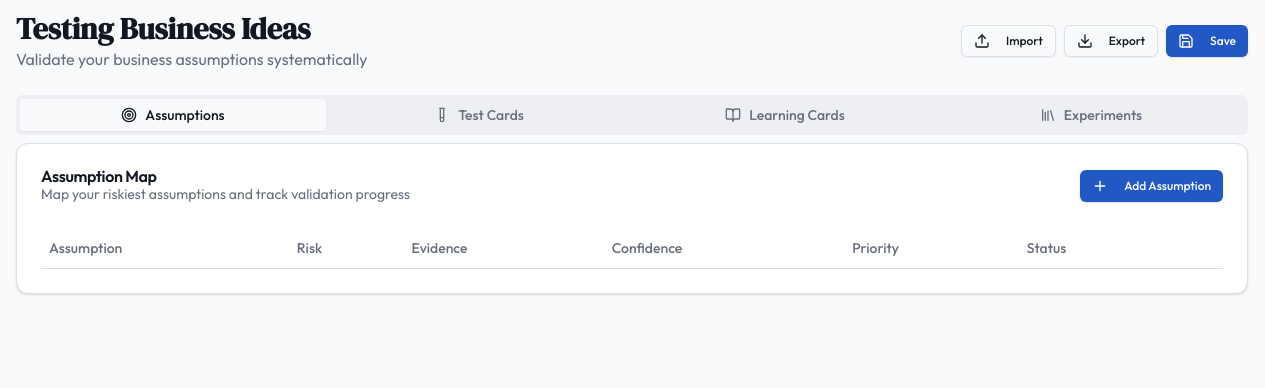
Scenario: TestingBusinessIdeasCanvas › Assumptions Management › adds new assumption when Add Assumption button is clicked
The width and height of the screenshot is (1265, 388).
Step 1. Click the button "Add Assumption" → {"x": 1152, "y": 186}, box [1080, 170, 1223, 202]
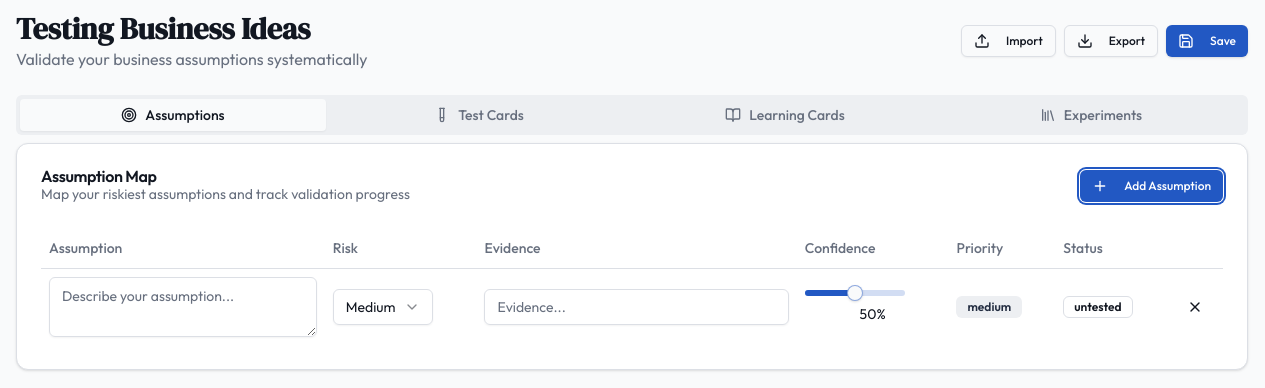
Expected: the column heading "Assumption" is shown, [41, 228, 325, 268]
Expected: the text box with placeholder "Describe your assumption..." is shown, [49, 276, 317, 336]
Expected: the field with placeholder "Evidence..." is shown, [484, 288, 789, 324]
